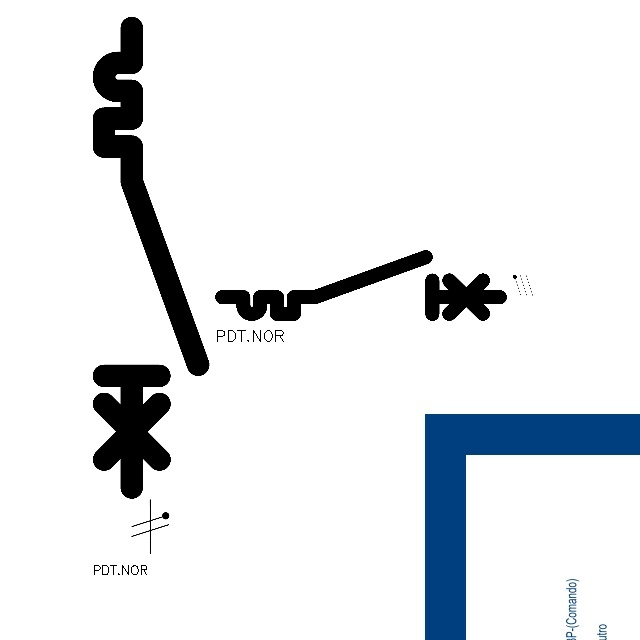interruptor_termomagnetico: (92, 16, 210, 499), (215, 250, 507, 321)
